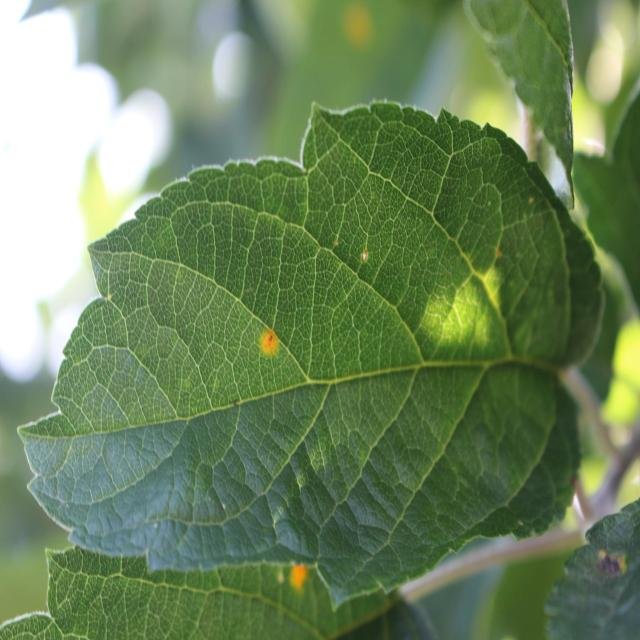Rust: (250, 308, 289, 375), (280, 541, 316, 603)
